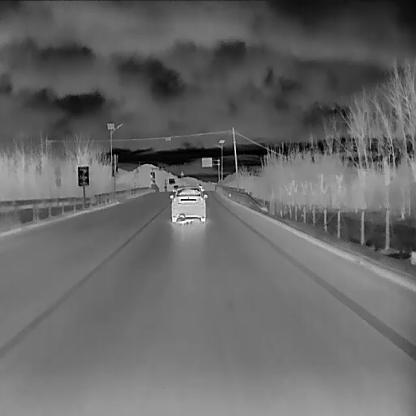car: (168, 185, 208, 222)
